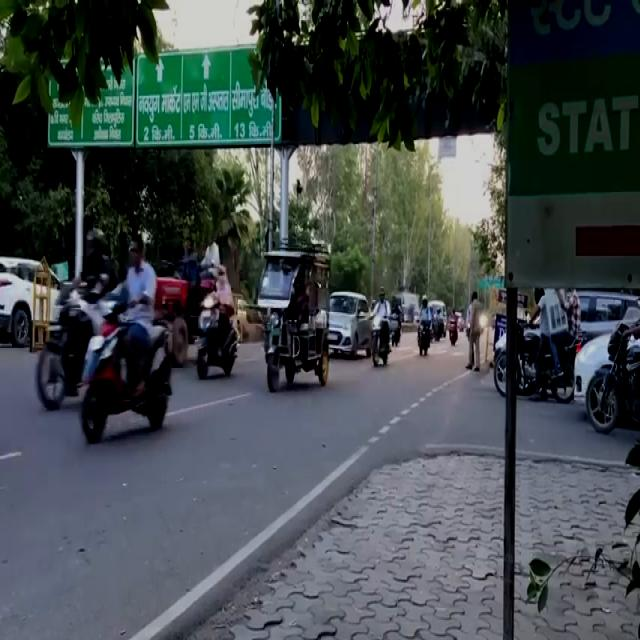MOTORCYCLE: (82, 305, 175, 448), (193, 268, 241, 381), (373, 315, 391, 367), (418, 317, 430, 362)
